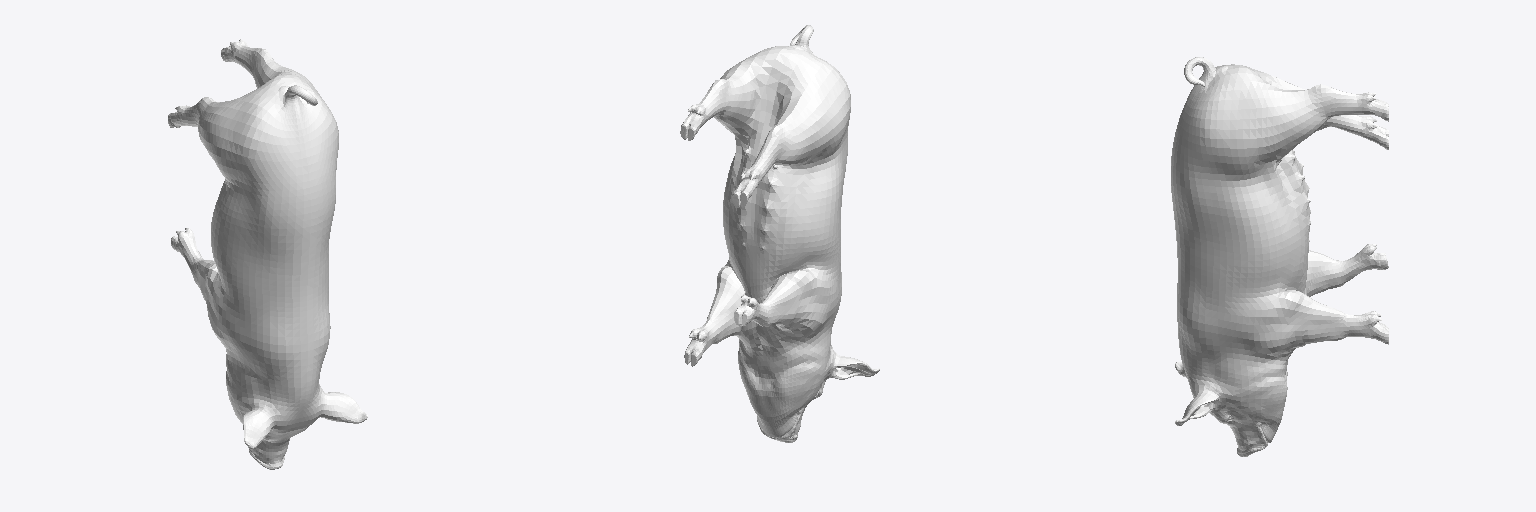
File: pig1.obj
3 views of the same model, side by side, from view 1: azimuth 30°, elevation 25°; view 2: azimuth 150°, elevation 25°; view 3: azimuth 270°, elevation 25° (orthographic).
Visible parts, largest first — view 1: Object.1; view 2: Object.1; view 3: Object.1.
Part boxes in pixels (x1,y1,x2,y2): Object.1: (168,39,367,469); Object.1: (680,25,879,442); Object.1: (1171,57,1388,456).
Size of the model in its own units: 0.3259 by 1.03 by 0.5119.